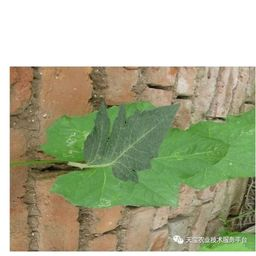liriomyza: (64, 130, 90, 157)
